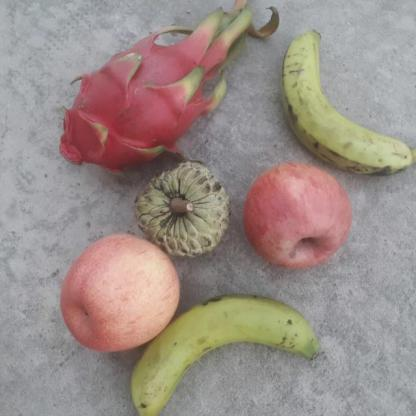annona: (133, 161, 229, 257)
apple: (57, 229, 179, 353), (245, 160, 354, 270)
banana: (125, 294, 353, 416), (278, 26, 416, 176)
pitaya: (59, 32, 185, 176)
